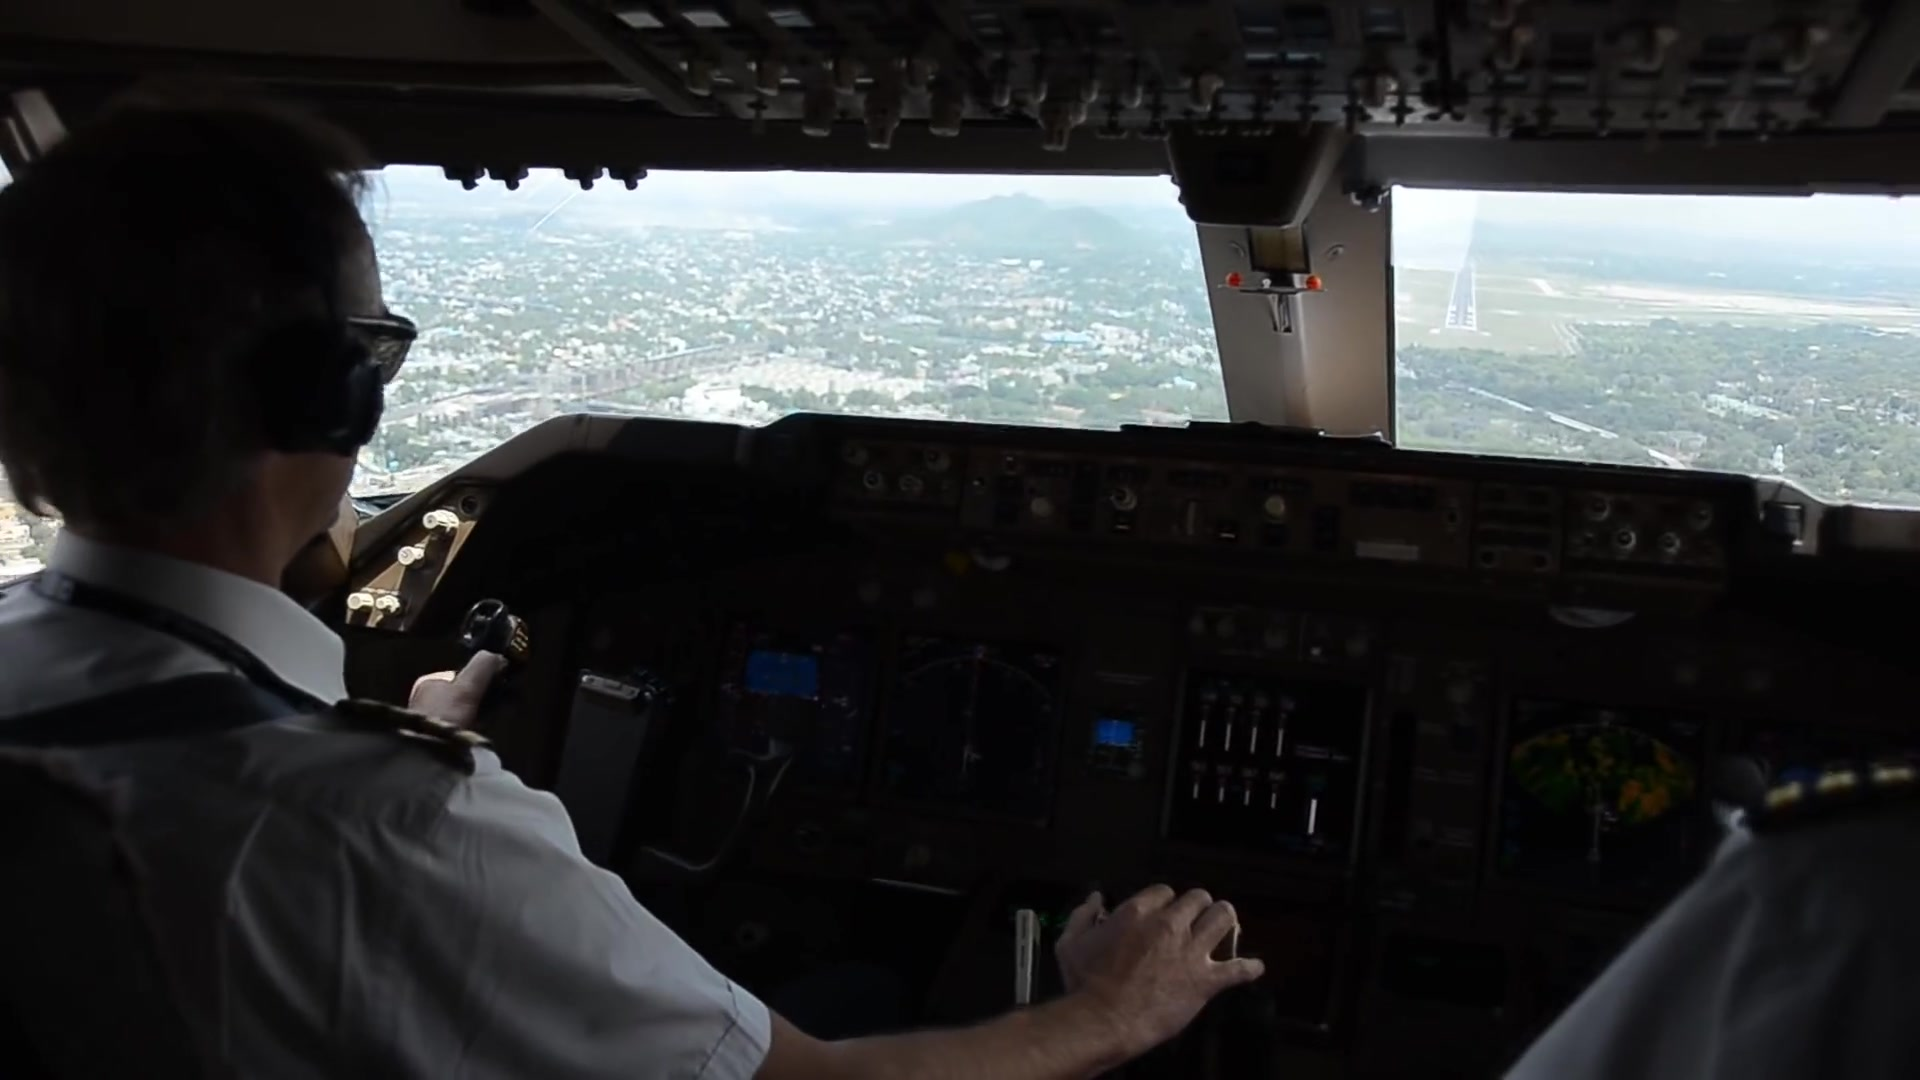runway: (1444, 260, 1478, 334)
